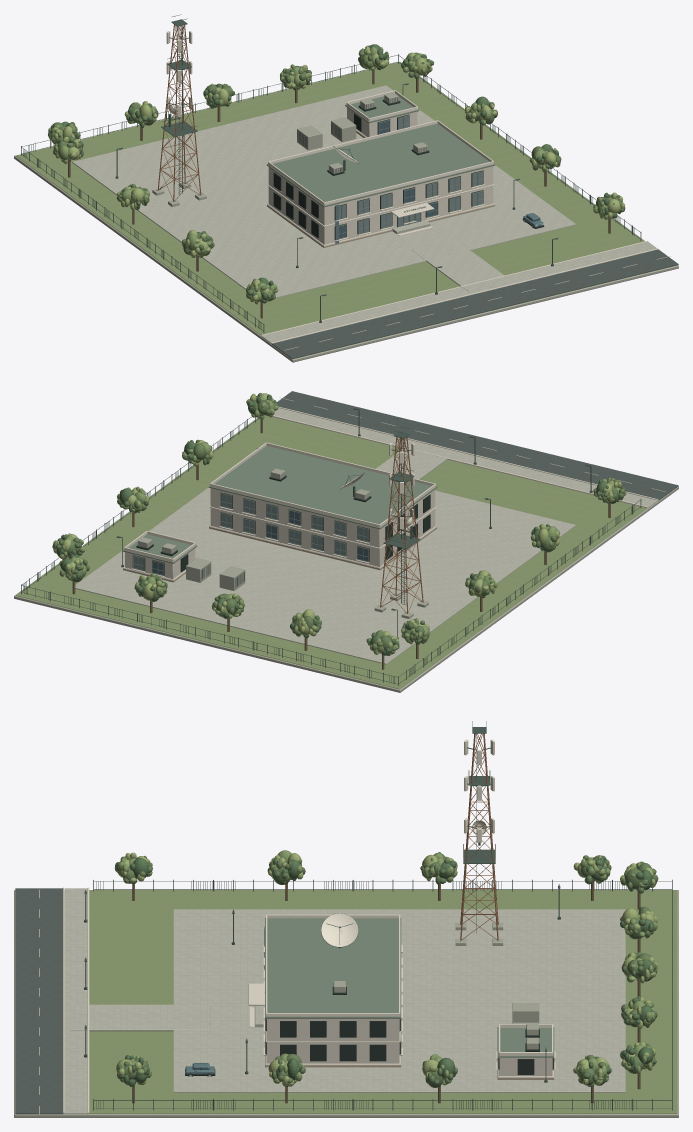
File: communications-intact.glb
The picture shows the model from 3 angles, top to bottom: view 1: azimuth 30°, elevation 25°; view 2: azimuth 150°, elevation 25°; view 3: azimuth 270°, elevation 25°; orthographic projection. The views are drawn at different scales.
Parts seen in each view (by area): view 1: 材质批次_plaza_paving, 材质批次_grass, 材质批次_sage_metal_roof, 材质批次_asphalt, 材质批次_warm_cream_trim, 材质批次_limestone, 材质批次_poi_service_concrete, 材质批次_street_metal, 材质批次_leaf_2, 材质批次_leaf_0, 材质批次_leaf_1, 材质批次_communications_tower (+6 smaller); view 2: 材质批次_plaza_paving, 材质批次_grass, 材质批次_sage_metal_roof, 材质批次_asphalt, 材质批次_warm_cream_trim, 材质批次_limestone, 材质批次_street_metal, 材质批次_poi_service_concrete, 材质批次_leaf_1, 材质批次_leaf_2, 材质批次_communications_tower, 材质批次_leaf_0 (+7 smaller); view 3: 材质批次_plaza_paving, 材质批次_grass, 材质批次_sage_metal_roof, 材质批次_asphalt, 材质批次_warm_cream_trim, 材质批次_street_metal, 材质批次_poi_service_concrete, 材质批次_limestone, 材质批次_leaf_1, 材质批次_leaf_3, 材质批次_leaf_2, 材质批次_recess_shadow (+4 smaller).
Boxes of the visible parts, x1,y1,x2,y2 form: 材质批次_plaza_paving: (72, 85, 656, 343); 材质批次_grass: (16, 62, 644, 335); 材质批次_sage_metal_roof: (266, 96, 495, 207); 材质批次_asphalt: (272, 249, 678, 359); 材质批次_warm_cream_trim: (166, 31, 658, 343); 材质批次_limestone: (268, 107, 493, 244); 材质批次_poi_service_concrete: (14, 62, 678, 362); 材质批次_street_metal: (21, 14, 641, 332); 材质批次_leaf_2: (48, 45, 624, 301); 材质批次_leaf_0: (48, 47, 612, 304); 材质批次_leaf_1: (48, 49, 624, 301); 材质批次_communications_tower: (157, 24, 201, 201); 材质批次_plaza_paving: (72, 408, 657, 664); 材质批次_grass: (16, 415, 646, 689); 材质批次_sage_metal_roof: (123, 446, 437, 563); 材质批次_asphalt: (276, 391, 678, 500); 材质批次_warm_cream_trim: (124, 406, 658, 579); 材质批次_limestone: (125, 488, 435, 579); 材质批次_street_metal: (21, 408, 641, 685); 材质批次_poi_service_concrete: (14, 417, 678, 692); 材质批次_leaf_1: (52, 393, 625, 654); 材质批次_leaf_2: (52, 393, 626, 654); 材质批次_communications_tower: (380, 437, 423, 613); 材质批次_leaf_0: (53, 397, 622, 655); 材质批次_plaza_paving: (65, 888, 625, 1114); 材质批次_grass: (64, 890, 677, 1113); 材质批次_sage_metal_roof: (265, 917, 554, 1057); 材质批次_asphalt: (15, 888, 63, 1114); 材质批次_warm_cream_trim: (63, 739, 555, 1113); 材质批次_street_metal: (84, 721, 672, 1110); 材质批次_poi_service_concrete: (14, 890, 678, 1117); 材质批次_limestone: (266, 1019, 552, 1076); 材质批次_leaf_1: (116, 855, 658, 1087); 材质批次_leaf_3: (115, 852, 657, 1086); 材质批次_leaf_2: (116, 852, 657, 1086); 材质批次_recess_shadow: (185, 986, 553, 1075).
Bounding box in the file's own units: 80.5 × 36.04 × 100.
26 materials, 5 textured.
